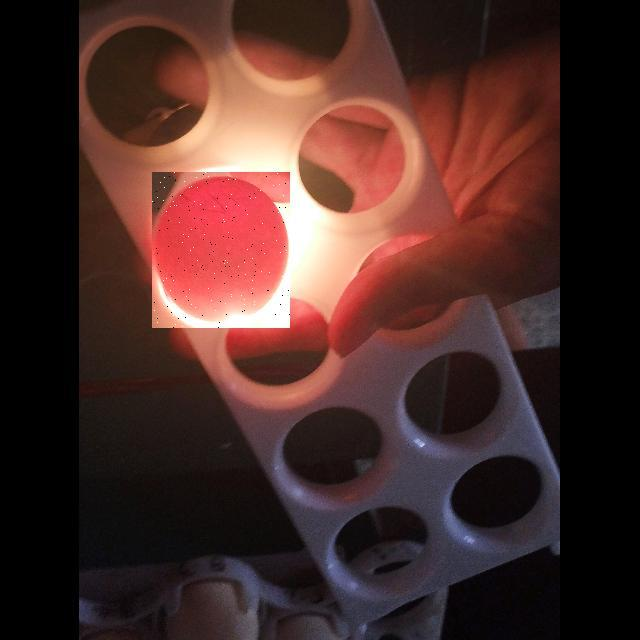Infertile: (152, 172, 290, 328)
